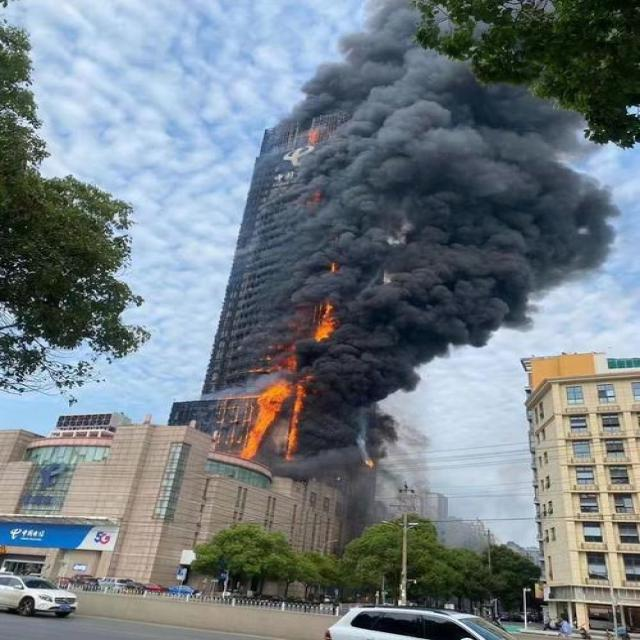Fire: (242, 376, 314, 458)
Smoke: (278, 112, 610, 472), (296, 0, 448, 111)
